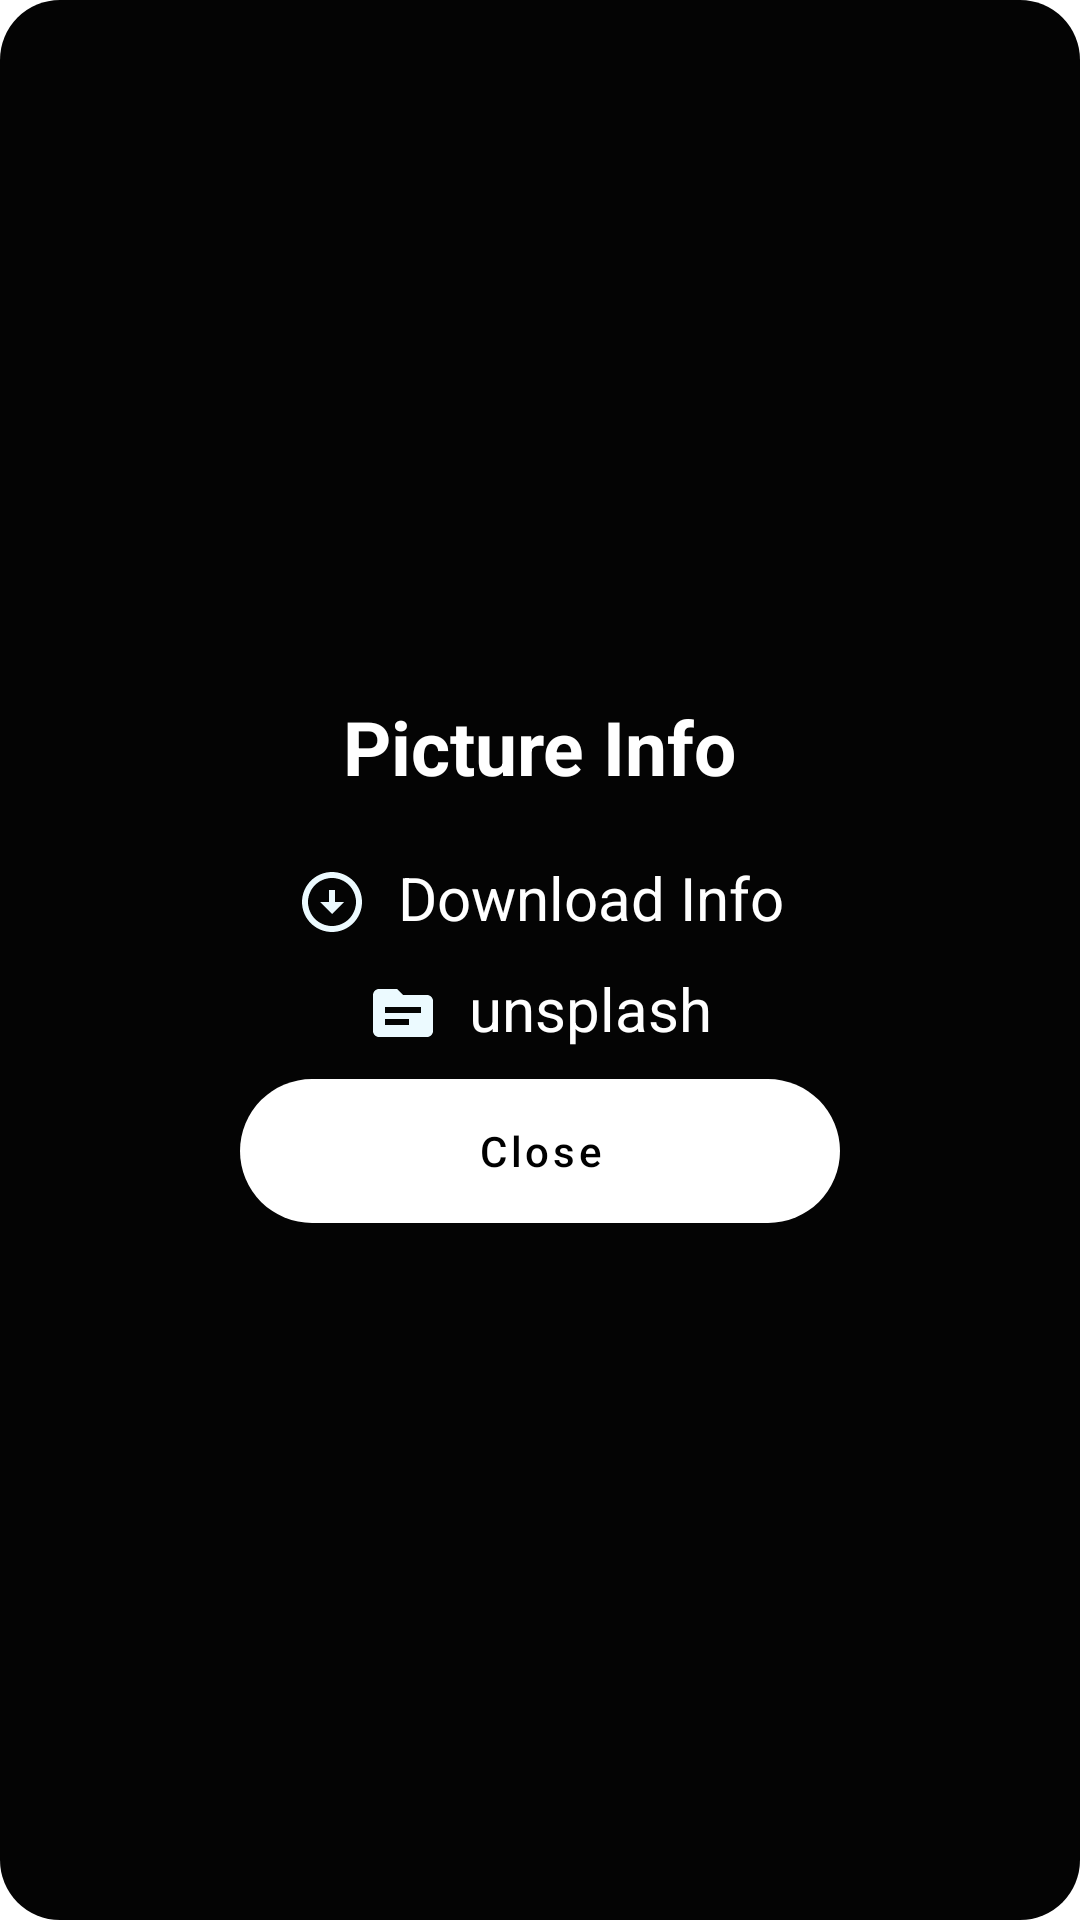

Icons on this 1080*1920 Android screen, each with the point to tap as [x,y]:
arrow circle down: [332,902]
source: [403,1013]
